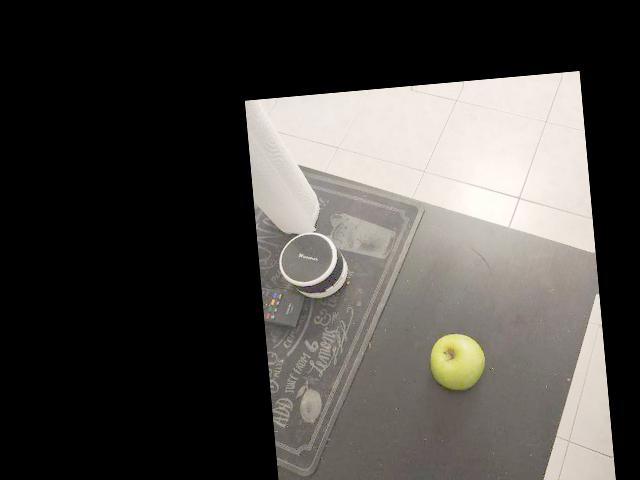apple: (419, 321, 497, 410)
